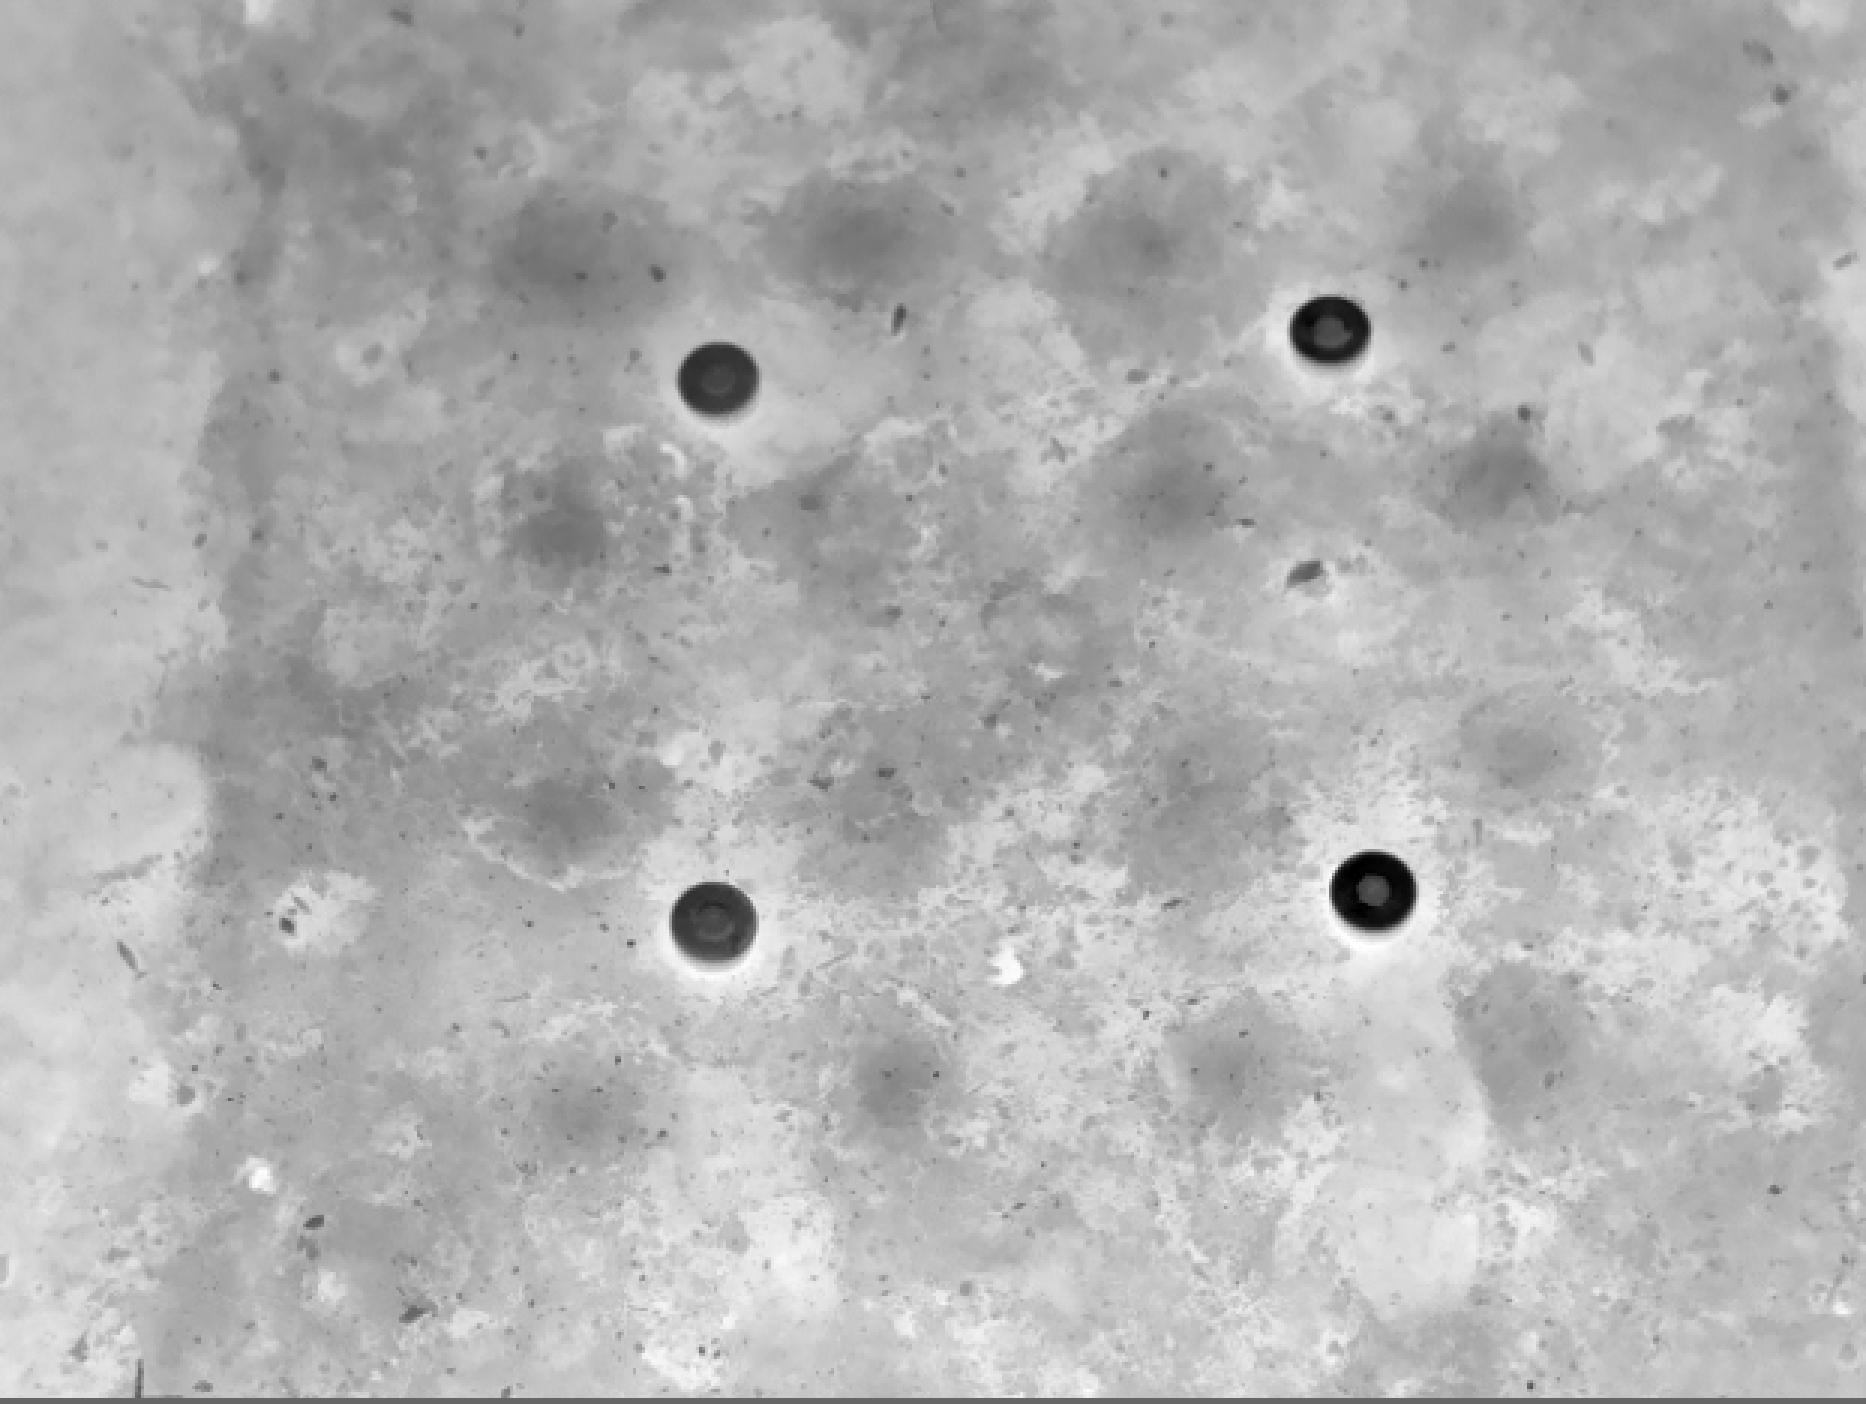mines-gjV8: (1288, 285, 1384, 380), (1328, 848, 1426, 938), (679, 882, 766, 973), (676, 345, 779, 420)
